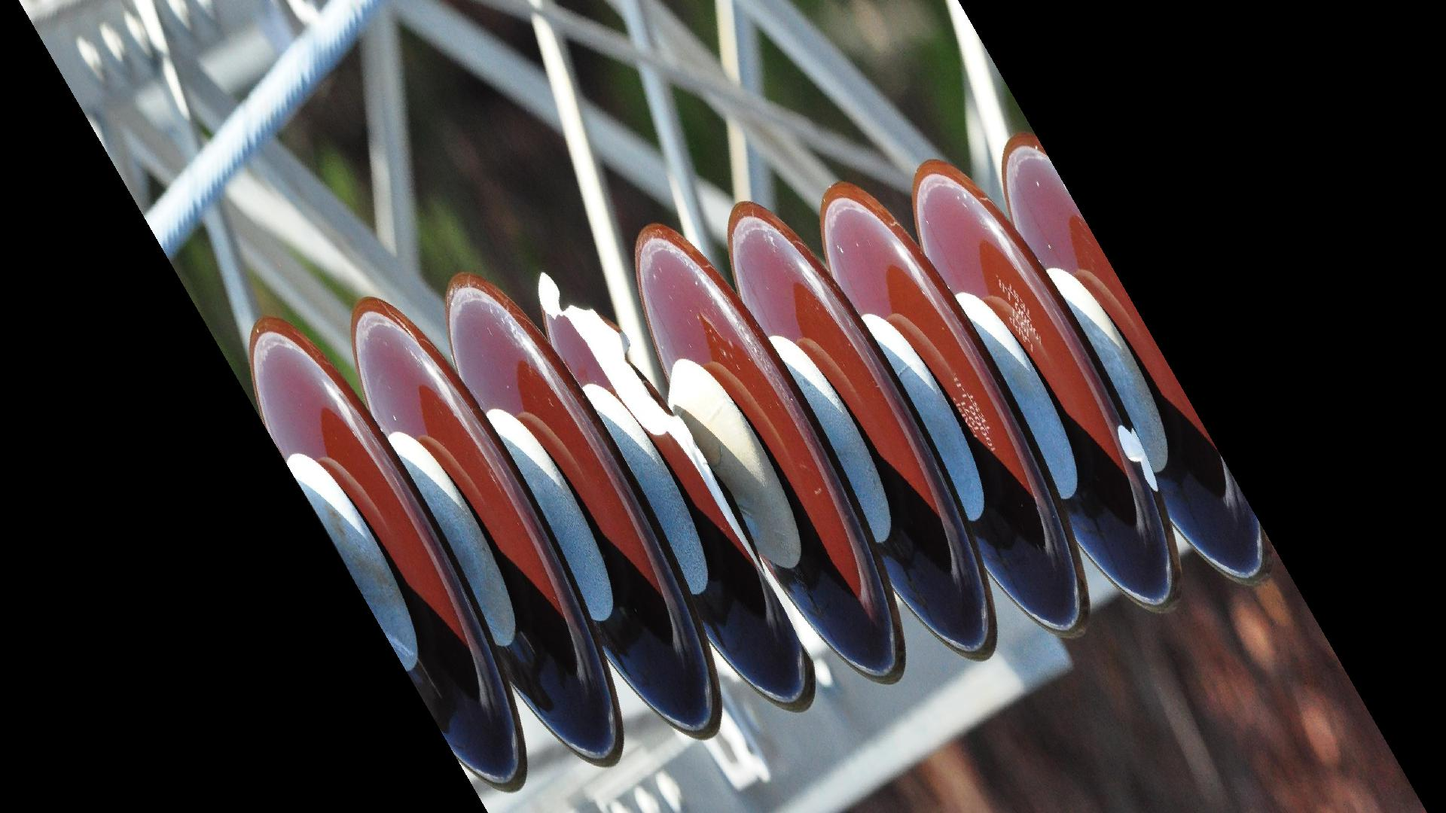insulator: (241, 128, 1277, 801)
insulator_breakage: (526, 260, 801, 626)
